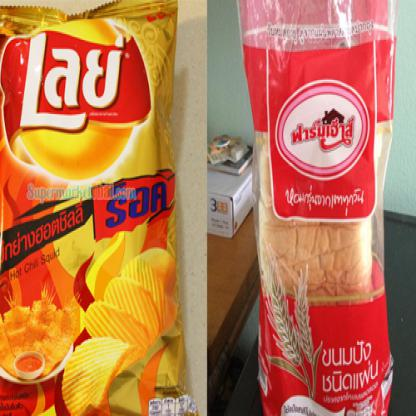potatochip: (0, 0, 200, 415)
